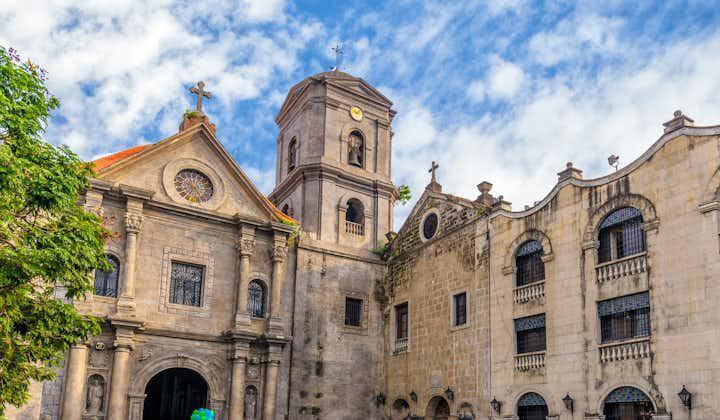san_agustin_church_intramuros_manila: (72, 38, 400, 420)
